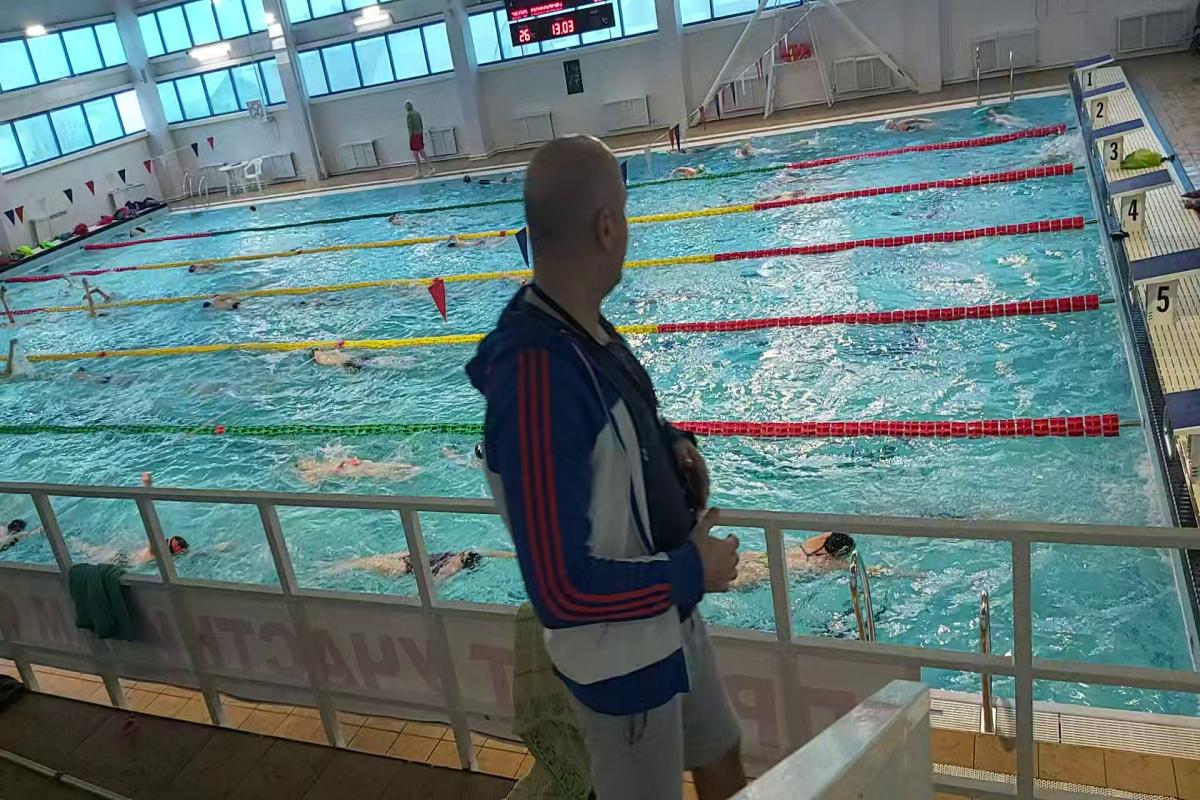swimmer: (328, 538, 509, 588), (287, 438, 426, 491), (745, 533, 871, 590), (0, 510, 41, 561), (202, 292, 264, 322), (0, 336, 36, 387), (183, 258, 244, 280)
